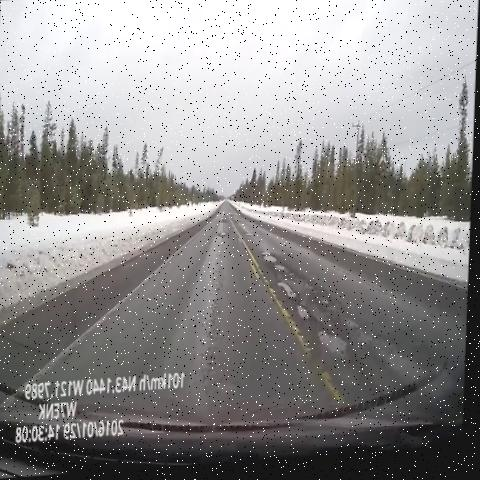pothole: (274, 275, 316, 332), (312, 321, 347, 375), (261, 251, 286, 277), (213, 224, 236, 249), (218, 211, 243, 233), (242, 229, 261, 251)
